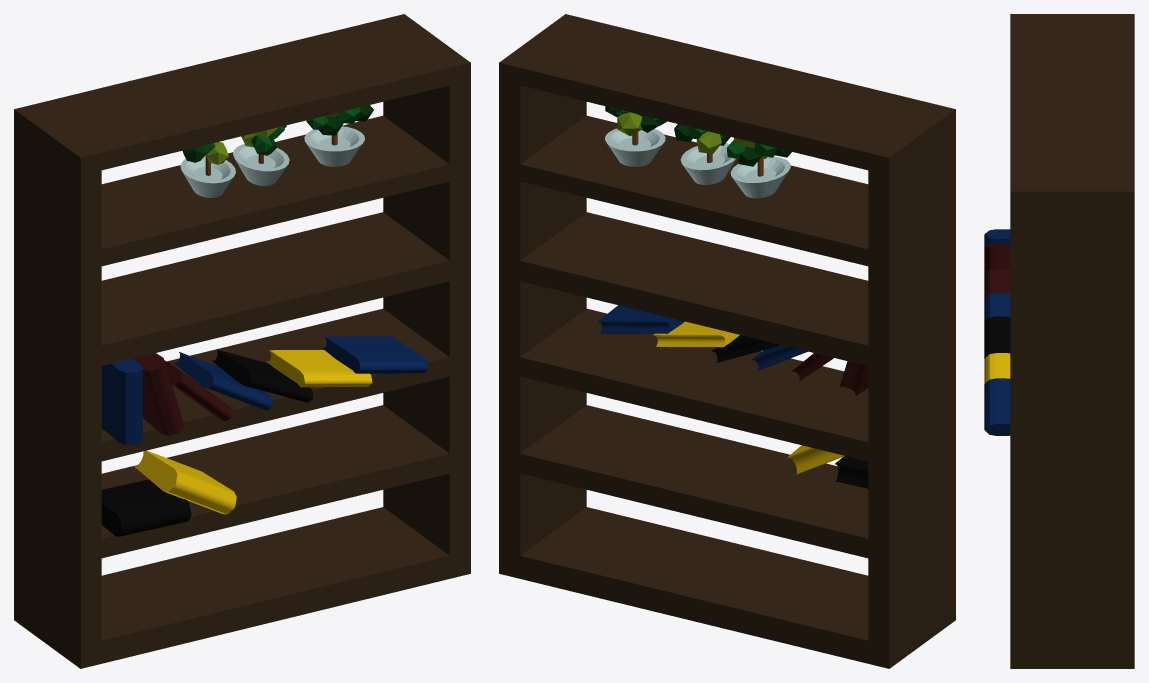
File: Shelf.fbx
3 renders of one model, left to right at view 1: azimuth 30°, elevation 25°; view 2: azimuth 150°, elevation 25°; view 3: azimuth 270°, elevation 25°, orthographic. The views are drawn at different scales.
Visible parts, largest first — view 1: Shelves1, pCube9, Book, pCube8, pCube10, pCube7, Flower, pCube3, Flower1, pCube6, Flower2, pCube5 (+1 smaller); view 2: Shelves1, Flower2, Flower, Flower1, pCube8, pCube7, pCube6, pCube9, pCube10, pCube3, pCube5; view 3: Shelves1, pCube8, pCube6, pCube3, pCube7, pCube4, pCube5, Book.
Boxes of the visible parts, <box> form: Shelves1: <box>14,14,470,668</box>; pCube9: <box>101,479,191,536</box>; Book: <box>101,359,142,444</box>; pCube8: <box>322,336,427,373</box>; pCube10: <box>134,450,236,514</box>; pCube7: <box>267,350,372,387</box>; Flower: <box>304,105,373,166</box>; pCube3: <box>132,353,184,435</box>; Flower1: <box>233,125,289,185</box>; pCube6: <box>212,349,312,402</box>; Flower2: <box>180,142,235,197</box>; pCube5: <box>173,352,272,410</box>; Shelves1: <box>499,14,955,668</box>; Flower2: <box>727,137,791,198</box>; Flower: <box>605,106,666,166</box>; Flower1: <box>674,124,736,184</box>; pCube8: <box>597,305,684,333</box>; pCube7: <box>653,321,739,347</box>; pCube6: <box>711,335,780,362</box>; pCube9: <box>835,456,868,488</box>; pCube10: <box>788,445,844,474</box>; pCube3: <box>839,361,868,395</box>; pCube5: <box>752,345,807,370</box>; Shelves1: <box>1010,14,1134,668</box>; pCube8: <box>984,378,1010,435</box>; pCube6: <box>984,316,1010,358</box>; pCube3: <box>984,244,1010,272</box>; pCube7: <box>984,353,1010,383</box>; pCube4: <box>984,269,1010,297</box>; pCube5: <box>984,293,1010,320</box>; Book: <box>984,229,1010,245</box>.
Bounding box in the file's own units: 6.77 × 8.48 × 2.42.
